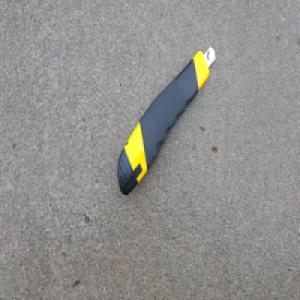Cutter: (116, 44, 215, 197)
